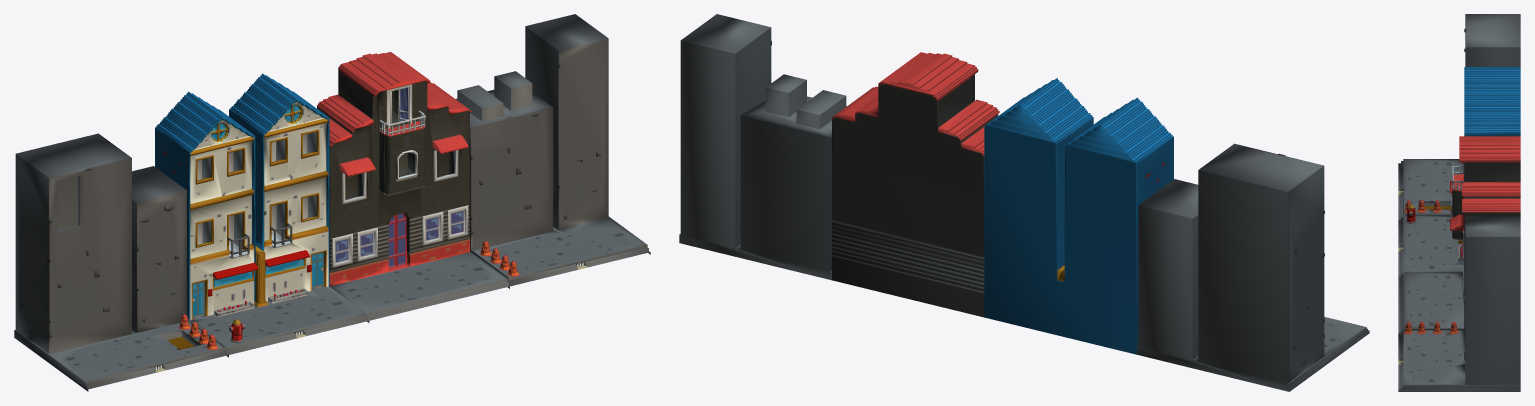
Rendered from Building.fbx.
3 views of the same model, side by side, from view 1: azimuth 30°, elevation 25°; view 2: azimuth 150°, elevation 25°; view 3: azimuth 270°, elevation 25° (orthographic). The views are drawn at different scales.
Visible parts, largest first — view 1: BGHouseA, polySurface30, polySurface1, BGHouseB; view 2: BGHouseA, polySurface30, polySurface1, BGHouseB; view 3: BGHouseB, polySurface1, polySurface30, BGHouseA, polySurface2.
Boxes of the visible parts, x1,y1,x2,y2 form: BGHouseA: (14,133,228,391); polySurface30: (155,73,368,354); polySurface1: (317,52,509,322); BGHouseB: (455,14,650,288); BGHouseA: (1137,143,1369,391); polySurface30: (984,78,1173,354); polySurface1: (832,52,999,317); BGHouseB: (679,14,846,280); BGHouseB: (1398,216,1520,391); polySurface1: (1398,136,1520,333); polySurface30: (1398,67,1520,276); BGHouseA: (1398,14,1520,219); polySurface2: (1405,204,1416,223).
Bounding box in the file's own units: 448 × 155 × 102.
